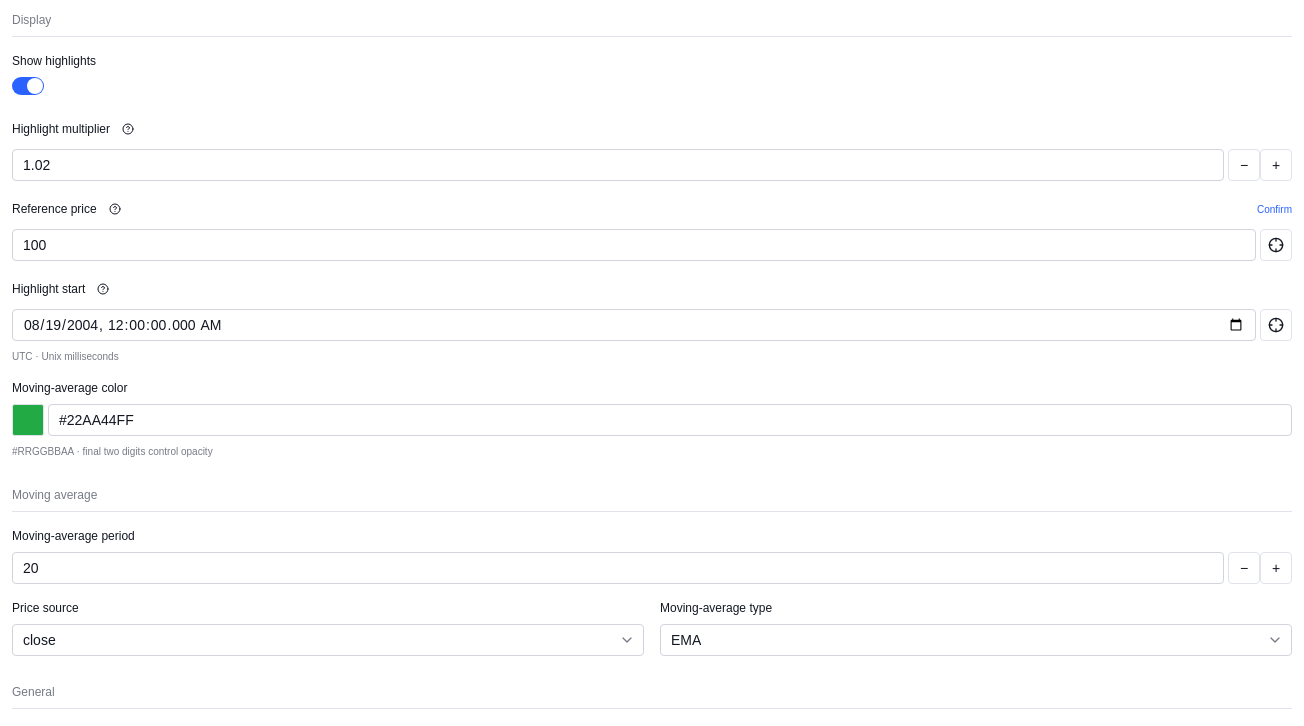
Test: UI-P07: help control opens its declared tooltip
Hover over the button named "Help for Highlight multiplier" at (128, 129), box [116,117,140,141]
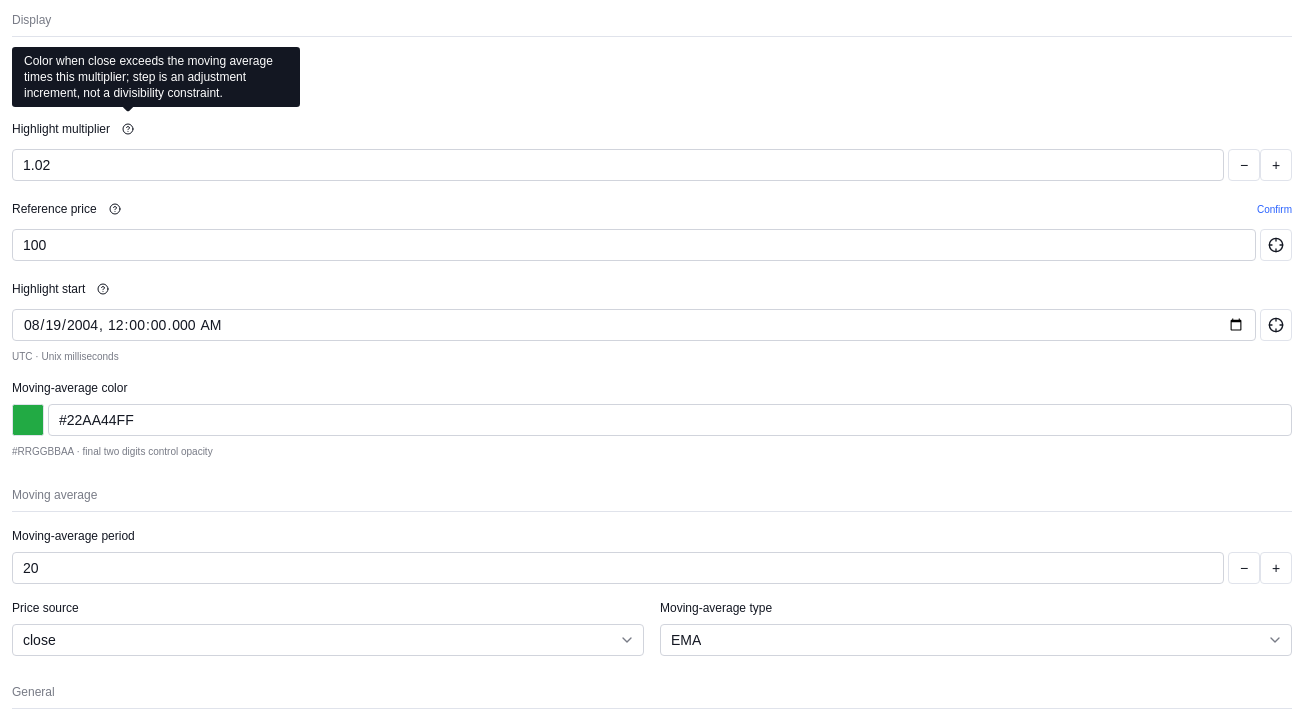
Now the tooltip shows "step is an adjustment increment", box [24,54,273,100]
